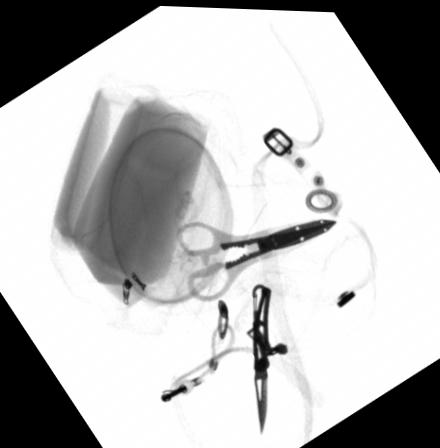Knife: (251, 282, 272, 434)
Scissors: (175, 216, 336, 302)
